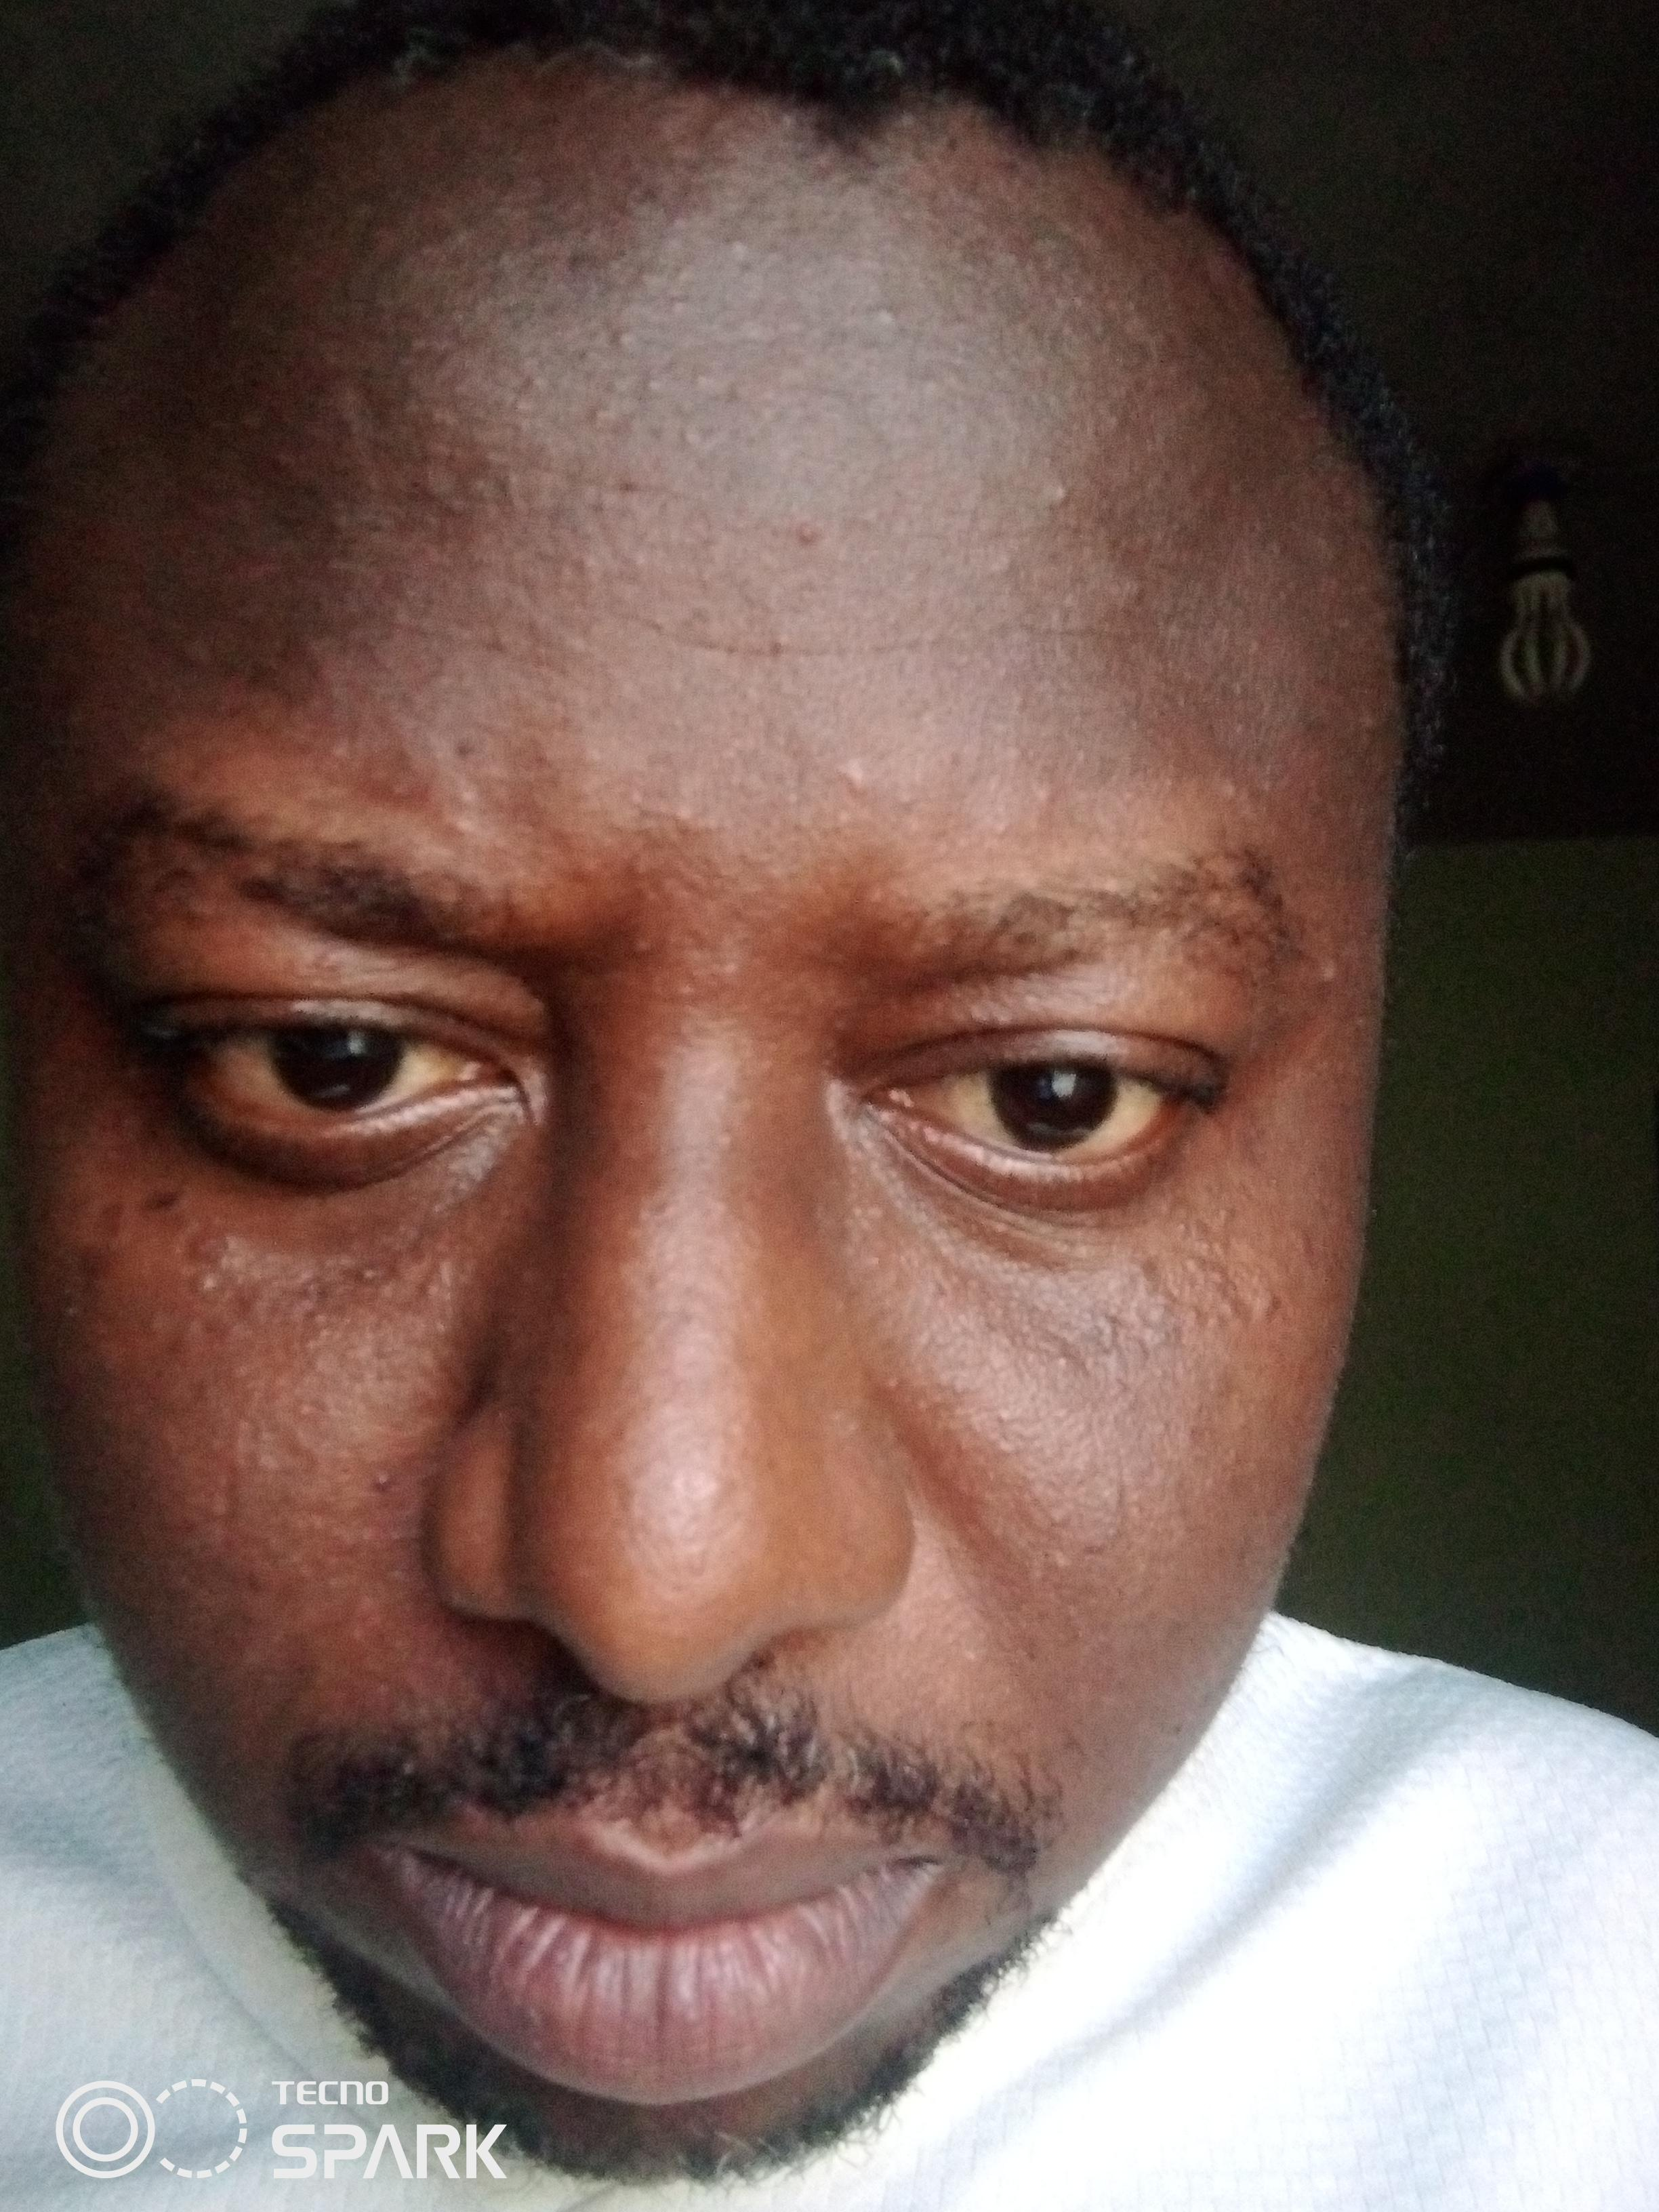Acne: (1061, 1211, 1321, 1372), (139, 1224, 249, 1359), (633, 791, 725, 846), (828, 745, 892, 820), (326, 1249, 390, 1310), (692, 237, 763, 277), (788, 507, 843, 557), (1040, 1496, 1070, 1583), (1033, 472, 1082, 524), (343, 1468, 399, 1514), (1310, 939, 1345, 1003), (852, 296, 896, 347), (608, 303, 643, 355)
Wrinkles: (605, 610, 1140, 678), (390, 448, 772, 512), (298, 594, 552, 672)
